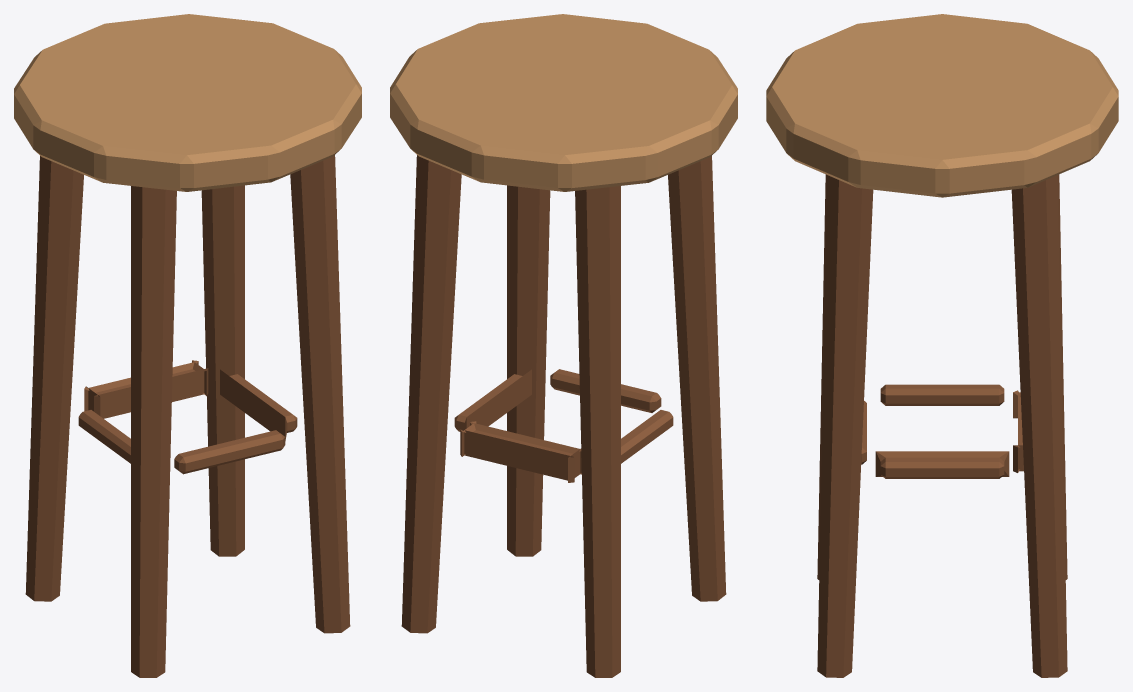
File: stool.glb
The picture shows the model from 3 angles, left to right: view 1: azimuth 30°, elevation 25°; view 2: azimuth 150°, elevation 25°; view 3: azimuth 270°, elevation 25°; orthographic projection. The views are drawn at different scales.
Parts seen in each view (by area): view 1: stool_Body; view 2: stool_Body; view 3: stool_Body.
Part boxes in pixels (box(x1,y1,x2,y2)): stool_Body: box(14, 14, 361, 677); stool_Body: box(390, 14, 737, 677); stool_Body: box(766, 14, 1118, 677).
Size of the model in its own units: 0.3 by 0.5 by 0.296.
